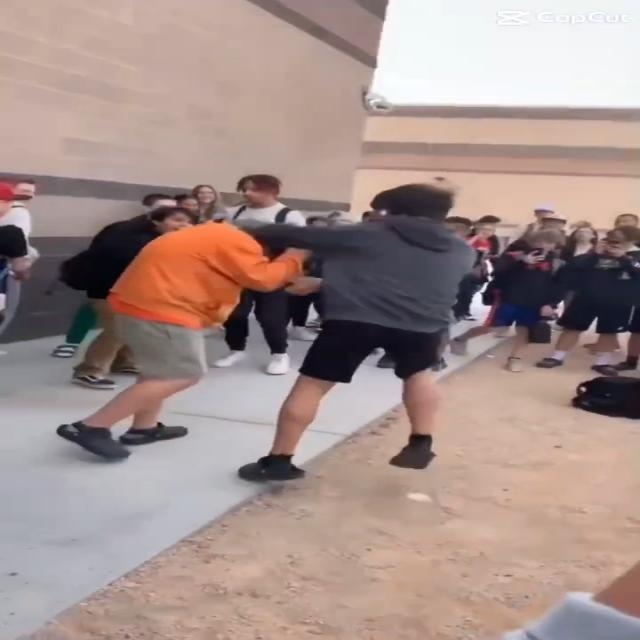fight: (54, 180, 471, 491)
